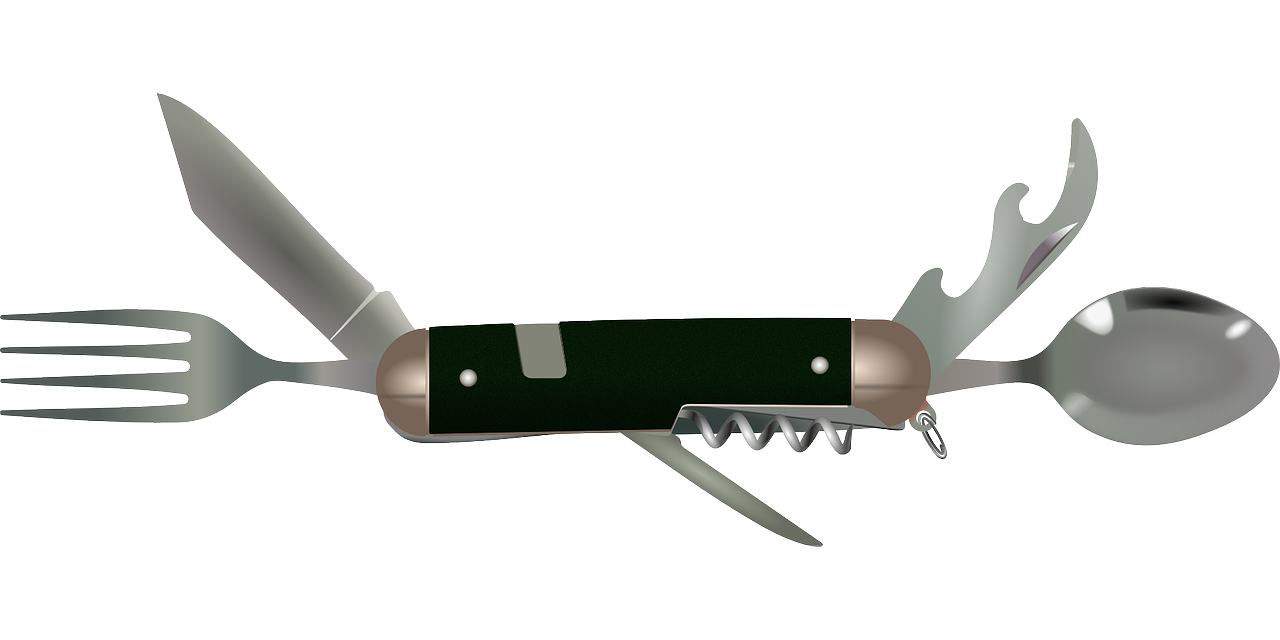knife: (150, 78, 413, 364), (891, 114, 1103, 380), (621, 431, 826, 549)
